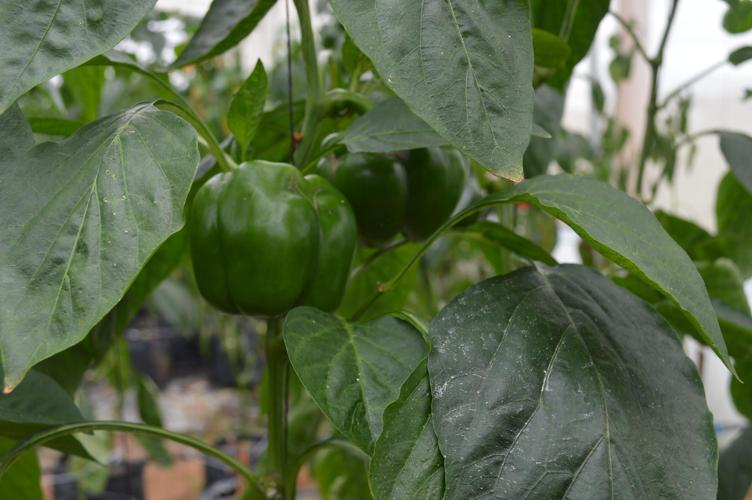BellPepper: (189, 164, 352, 307), (316, 130, 467, 234)
